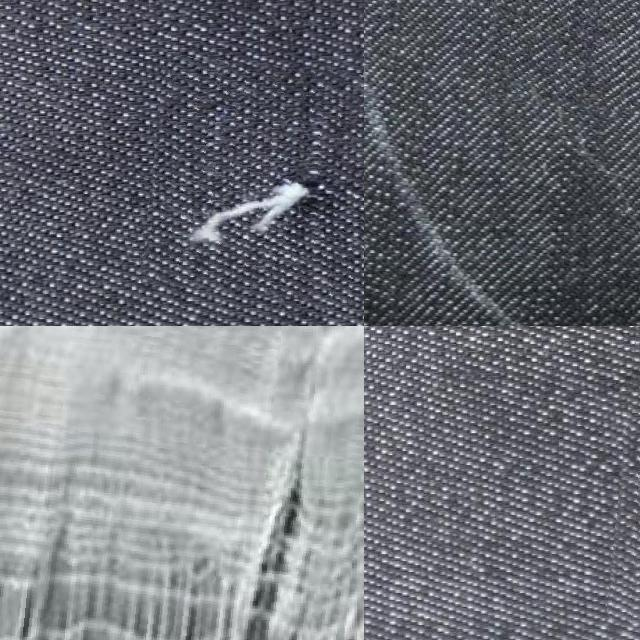Thread_other: (0, 326, 364, 640), (146, 60, 364, 304), (495, 0, 640, 111)
